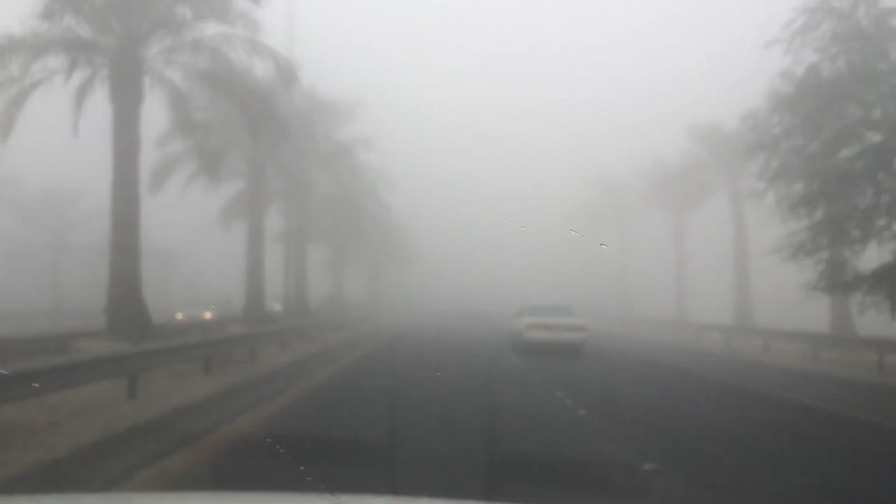car: (510, 302, 589, 351), (173, 299, 219, 332)
